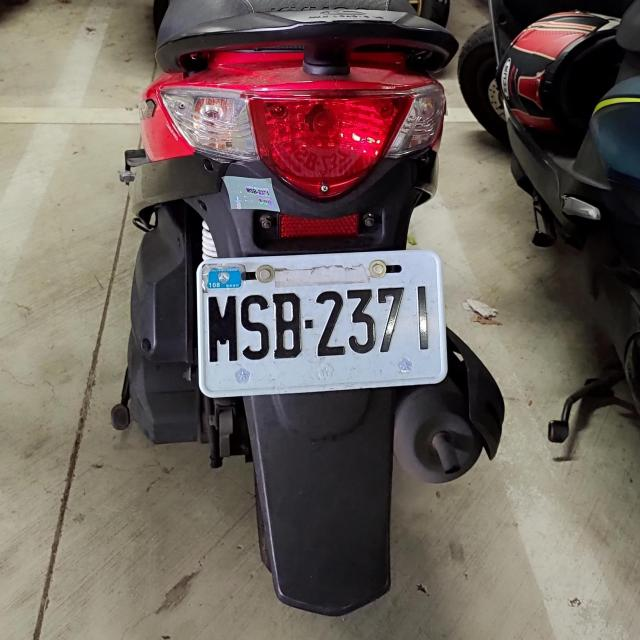W: (192, 249, 448, 393)
